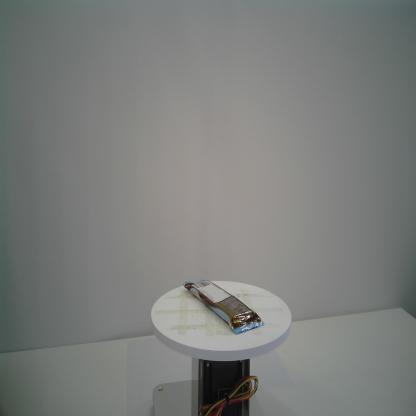Chocolate: (182, 276, 266, 337)
